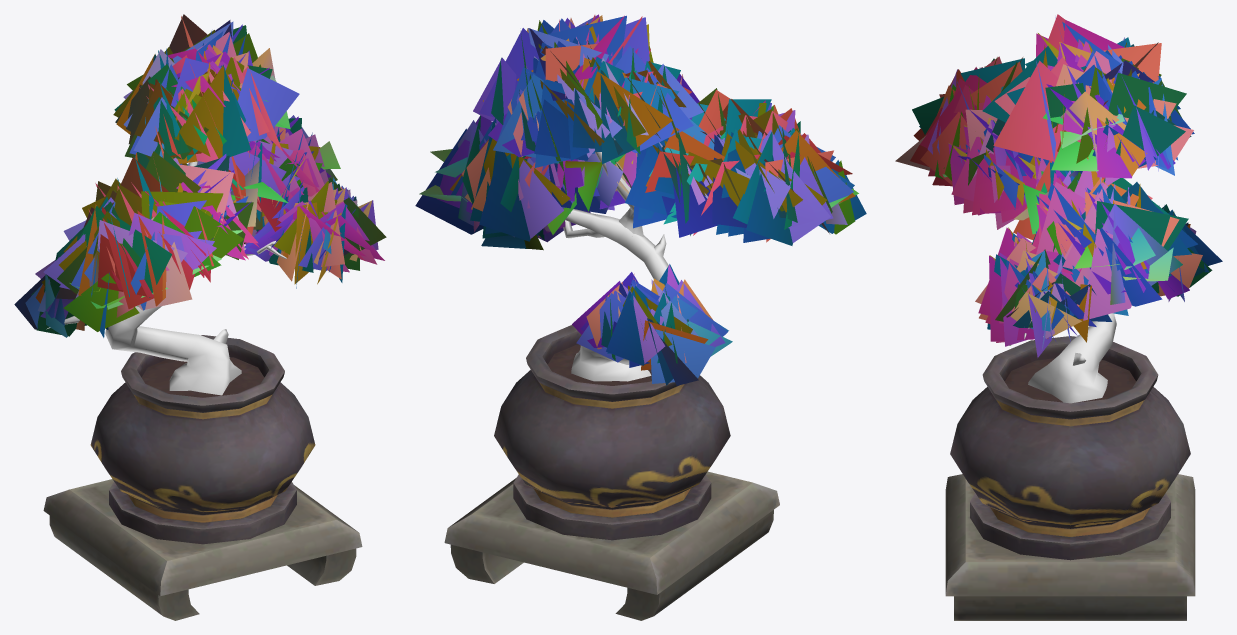
Rendered from Homeworld_Exterior_Common_Thing_Pottedplants_01_Vo.fbx.
The picture shows the model from 3 angles, left to right: view 1: azimuth 30°, elevation 25°; view 2: azimuth 150°, elevation 25°; view 3: azimuth 270°, elevation 25°; orthographic projection. The views are drawn at different scales.
Visible parts, largest first — view 1: Area_Dq_Tree_Common_Pt_06_01_Leaf_Lod0, Homeworld_Exterior_Common_Thing_Pottedplants_01_Vo, Area_Dq_Tree_Common_Pt_06_01_Bark_Lod0; view 2: Area_Dq_Tree_Common_Pt_06_01_Leaf_Lod0, Homeworld_Exterior_Common_Thing_Pottedplants_01_Vo, Area_Dq_Tree_Common_Pt_06_01_Bark_Lod0; view 3: Area_Dq_Tree_Common_Pt_06_01_Leaf_Lod0, Homeworld_Exterior_Common_Thing_Pottedplants_01_Vo, Area_Dq_Tree_Common_Pt_06_01_Bark_Lod0.
Part boxes in pixels (x1,y1,x2,y2): Area_Dq_Tree_Common_Pt_06_01_Leaf_Lod0: [14, 14, 386, 337]; Homeworld_Exterior_Common_Thing_Pottedplants_01_Vo: [43, 335, 362, 620]; Area_Dq_Tree_Common_Pt_06_01_Bark_Lod0: [46, 161, 286, 395]; Area_Dq_Tree_Common_Pt_06_01_Leaf_Lod0: [415, 14, 866, 385]; Homeworld_Exterior_Common_Thing_Pottedplants_01_Vo: [444, 325, 779, 620]; Area_Dq_Tree_Common_Pt_06_01_Bark_Lod0: [563, 152, 679, 381]; Area_Dq_Tree_Common_Pt_06_01_Leaf_Lod0: [895, 14, 1222, 357]; Homeworld_Exterior_Common_Thing_Pottedplants_01_Vo: [945, 336, 1195, 620]; Area_Dq_Tree_Common_Pt_06_01_Bark_Lod0: [1024, 313, 1116, 403].
Bounding box in the file's own units: 1.92 × 2.75 × 1.48.
Materials: 2 (1 with a texture image).
